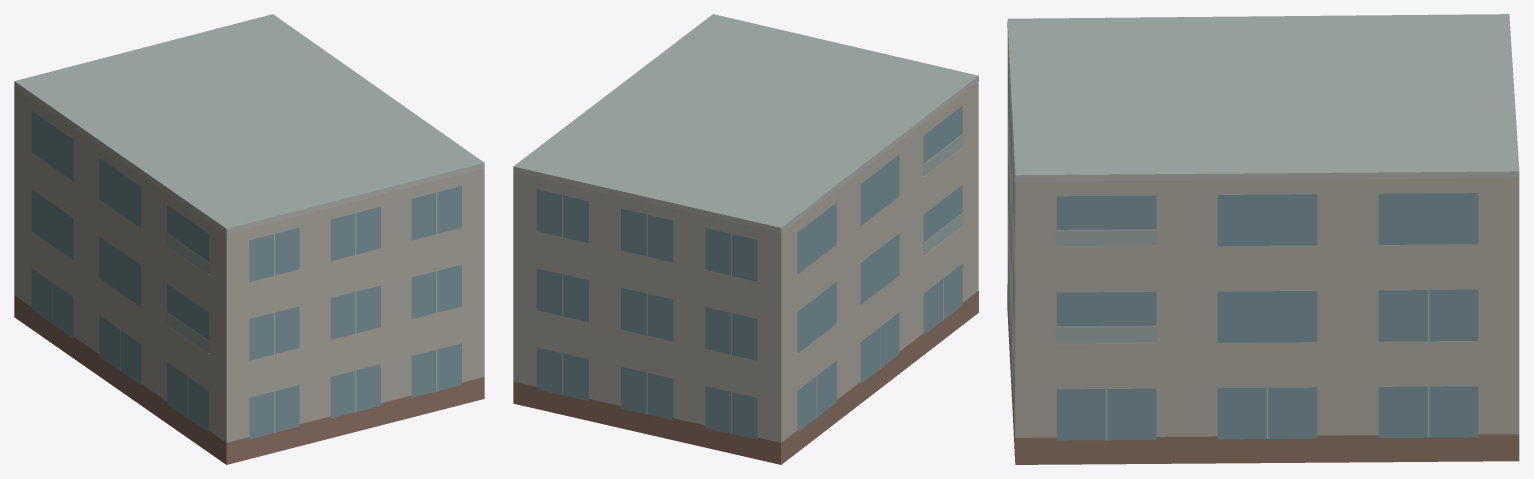
Rendered from survey-upis-32953502.glb.
3 renders of one model, left to right at view 1: azimuth 30°, elevation 25°; view 2: azimuth 150°, elevation 25°; view 3: azimuth 270°, elevation 25°, orthographic. The views are drawn at different scales.
Parts seen in each view (by area): view 1: survey-upis-32953502.tmp; view 2: survey-upis-32953502.tmp; view 3: survey-upis-32953502.tmp.
Boxes of the visible parts, x1,y1,x2,y2 form: survey-upis-32953502.tmp: (14,14,484,464); survey-upis-32953502.tmp: (513,14,978,464); survey-upis-32953502.tmp: (1007,14,1519,464).
Size of the model in its own units: 12.72 by 10.65 by 17.07.
